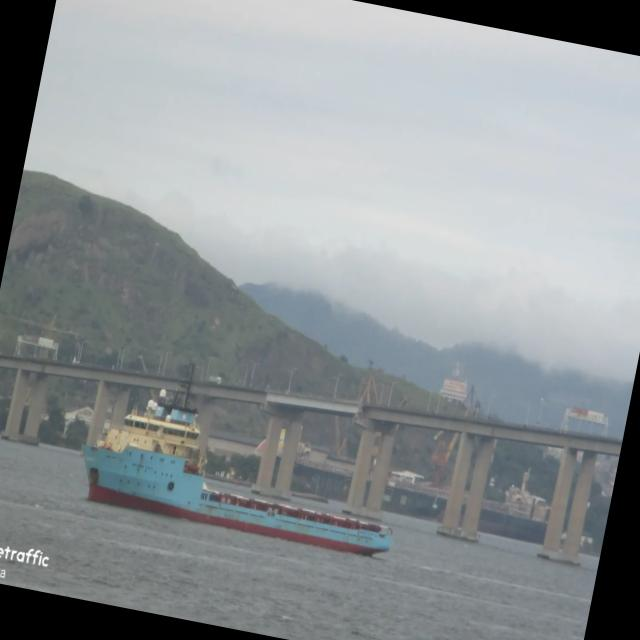Offshore: (82, 381, 391, 555)
